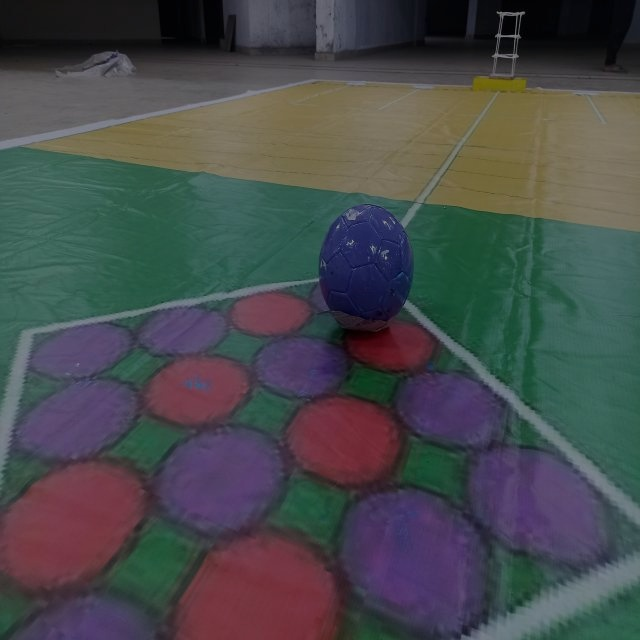purple_ball: (317, 200, 416, 335)
